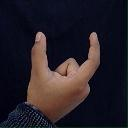hand: (26, 30, 100, 123)
